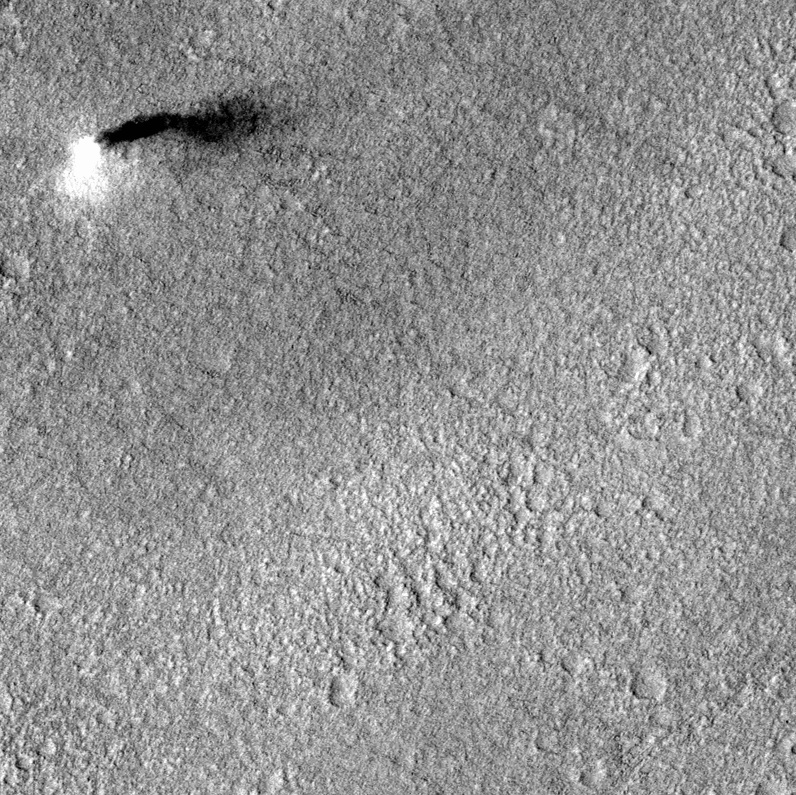dust_devil: (61, 92, 260, 205)
